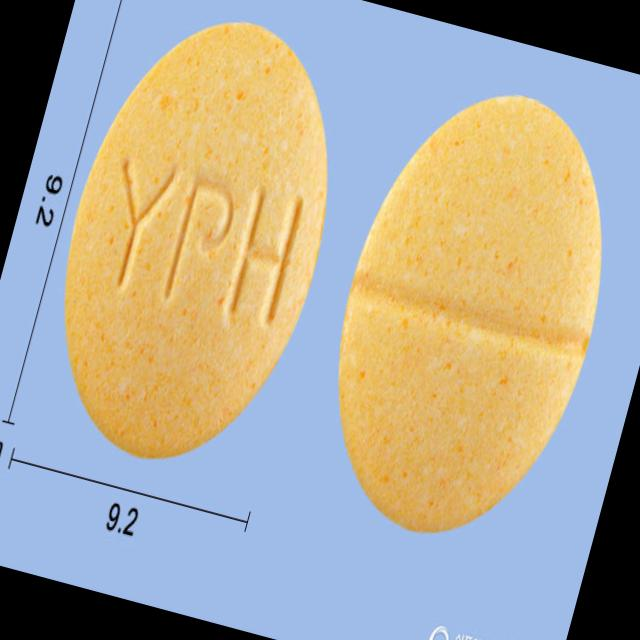Doxycycline Tab- Youngpoong: (18, 0, 374, 490)
